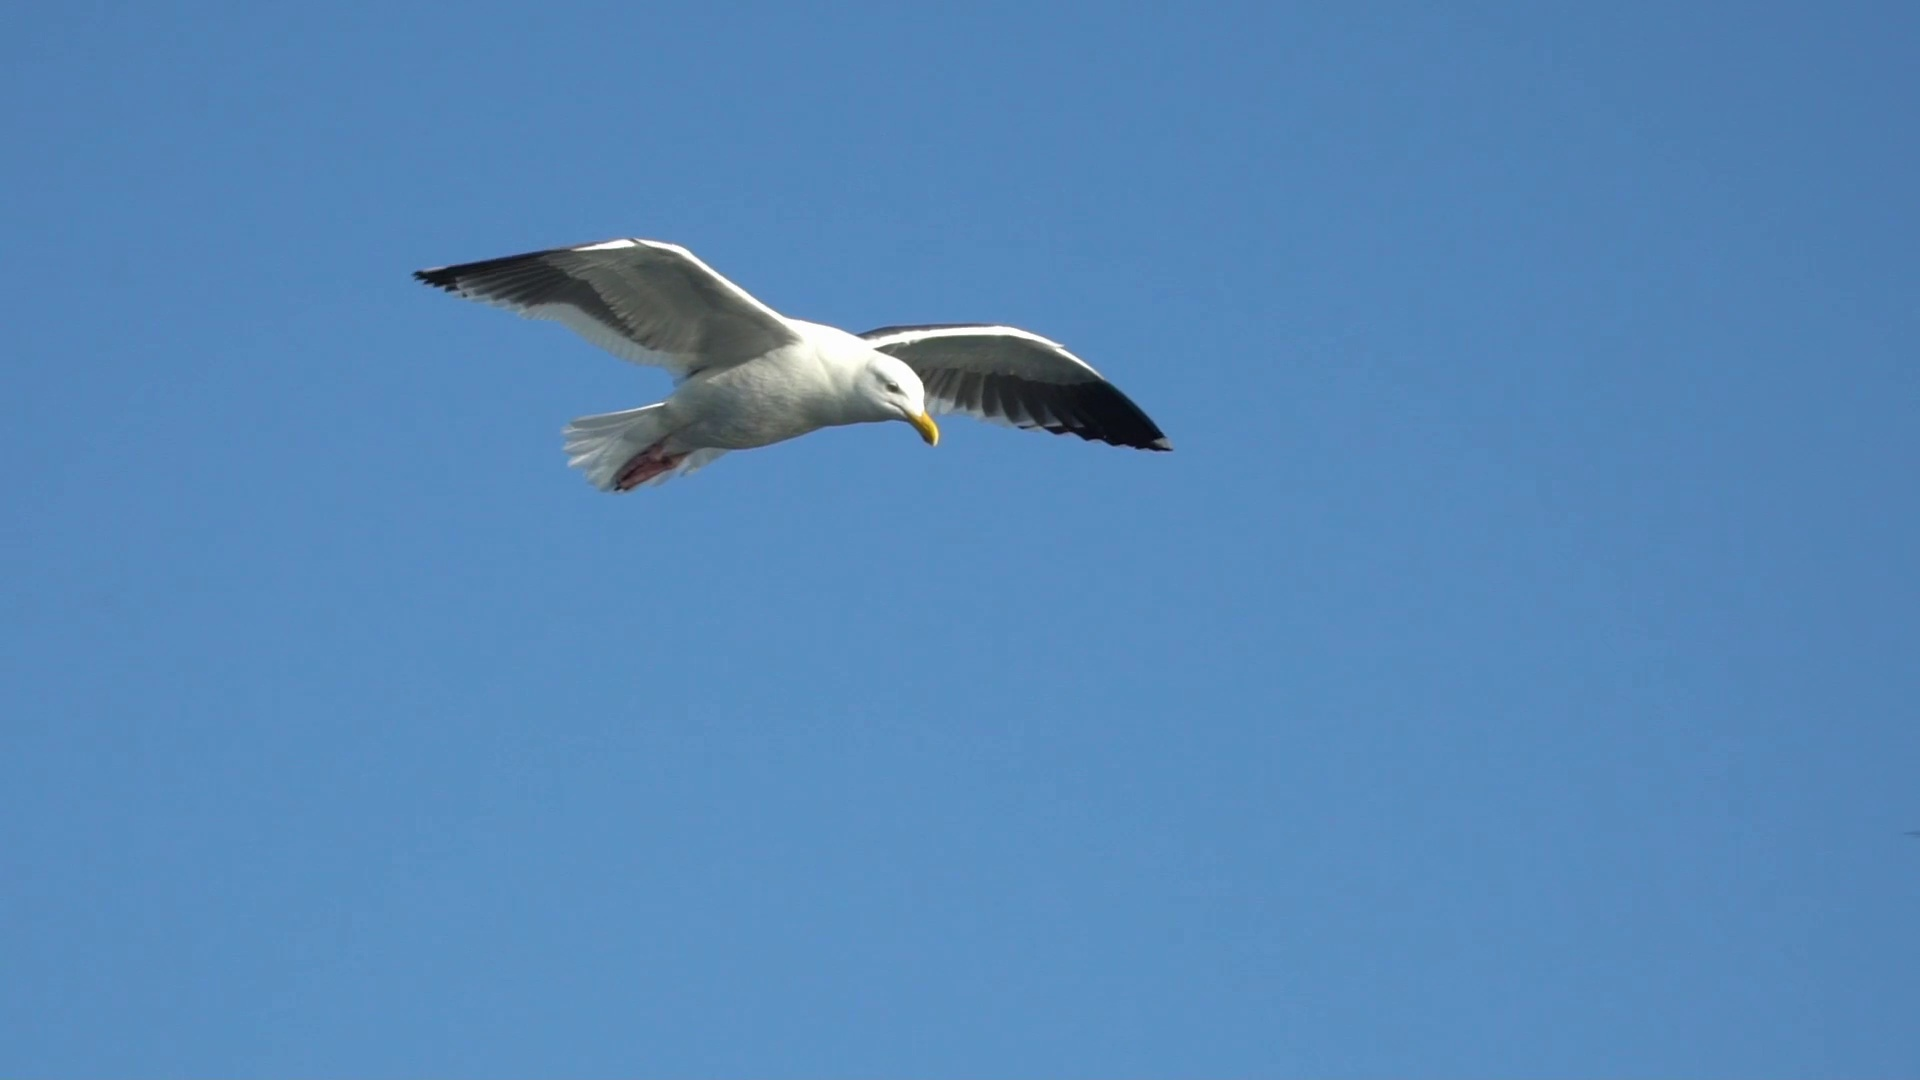bird: (409, 237, 1174, 498)
